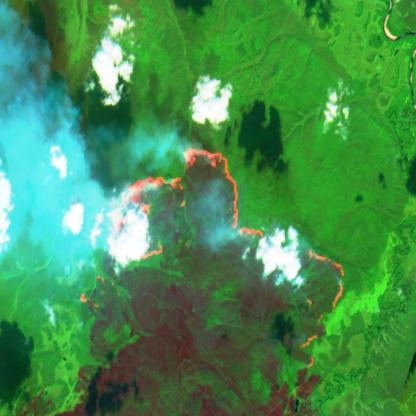fire: (77, 145, 345, 374)
